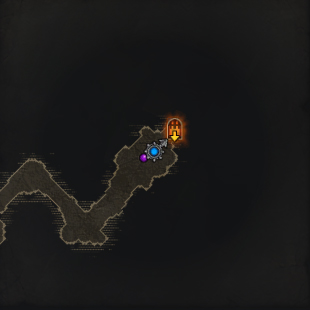Exit: (165, 116, 184, 144)
